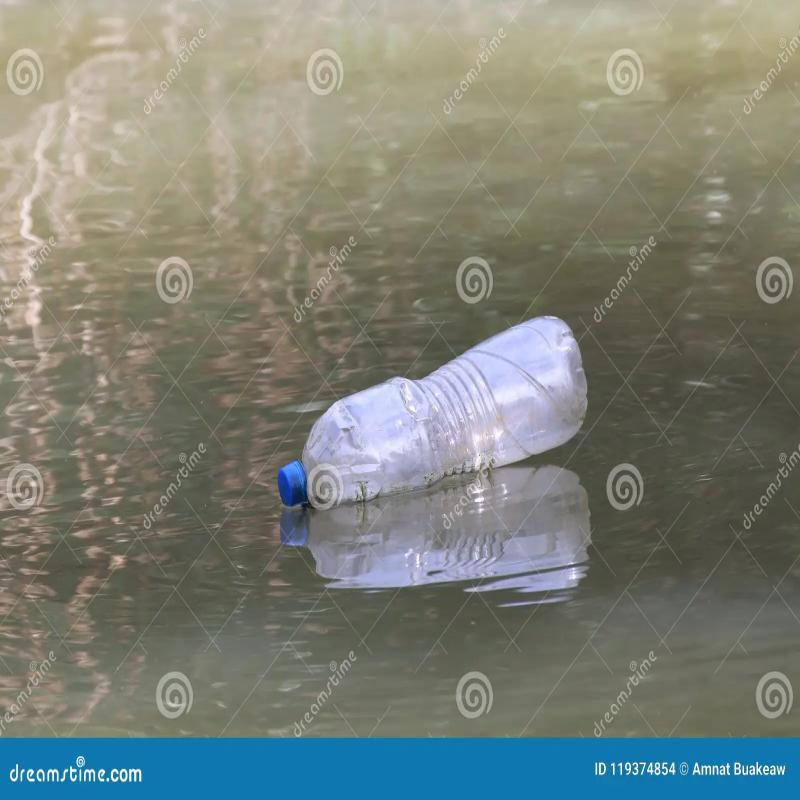botella: (279, 312, 590, 510)
